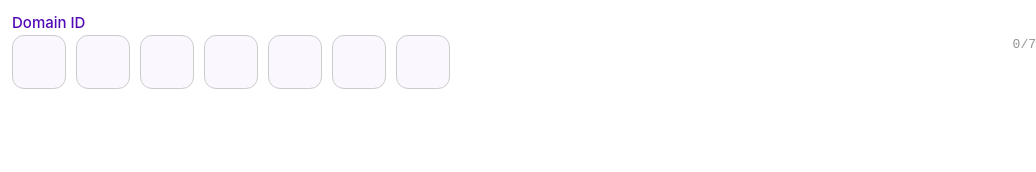
Test: DomainIdInput › shows a filled-count that tracks how many boxes hold a character
Check: the text "0/7" is shown, box left=1013, top=34, right=1035, bottom=54
Check: the element "Domain ID" is shown, box left=12, top=12, right=1035, bottom=88
Type "A" into the field named "Domain ID character 1 of 7" at x=39, y=62, box left=12, top=34, right=66, bottom=88
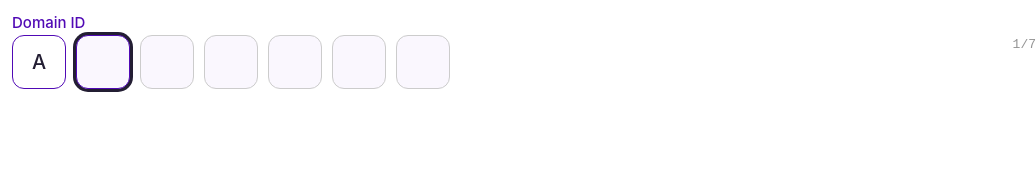
Type "B" into the field named "Domain ID character 2 of 7" at x=103, y=62, box left=76, top=34, right=130, bottom=88
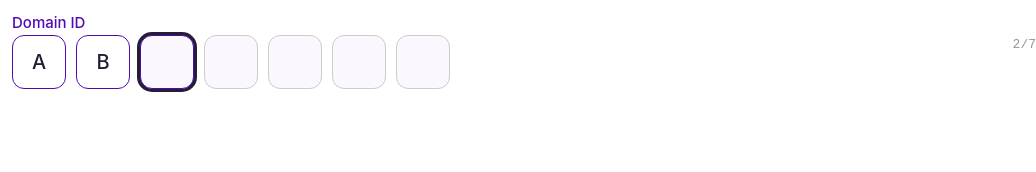
Check: the text "2/7" is shown, box left=1013, top=34, right=1035, bottom=54
